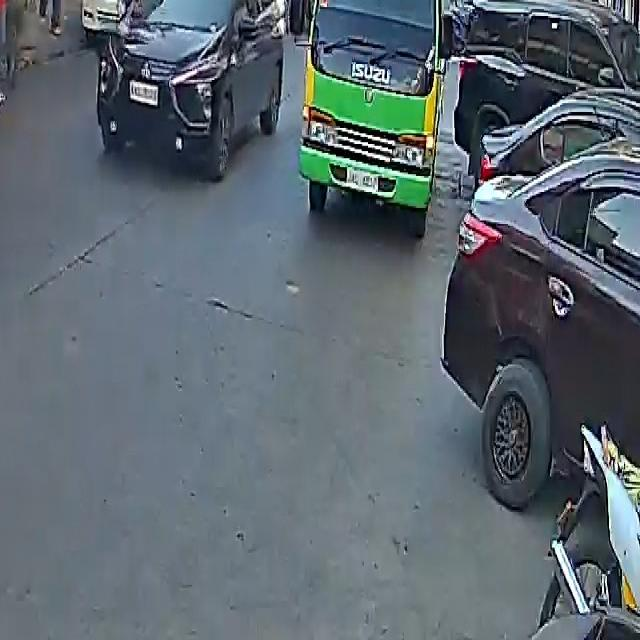car: (443, 151, 640, 516), (96, 0, 289, 181), (451, 0, 639, 178), (81, 0, 198, 50)
